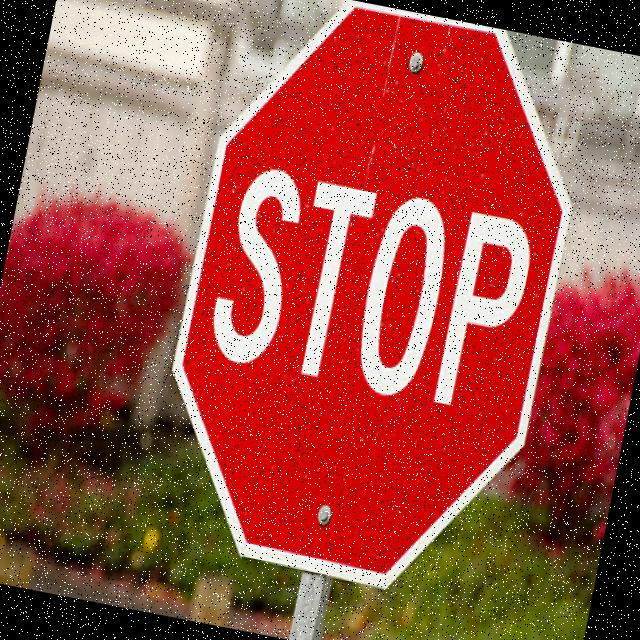stop: (124, 0, 609, 624)
